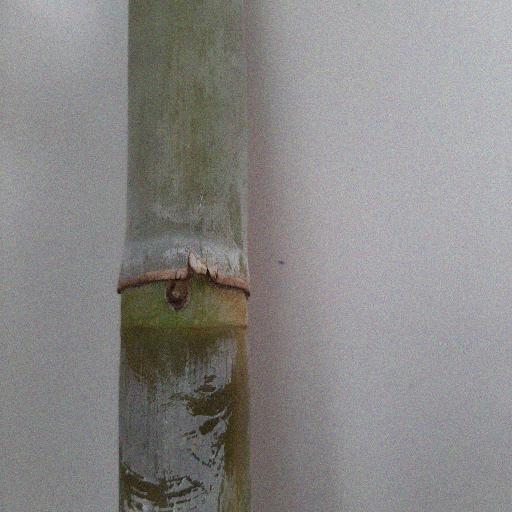Bud: (164, 278, 192, 310)
